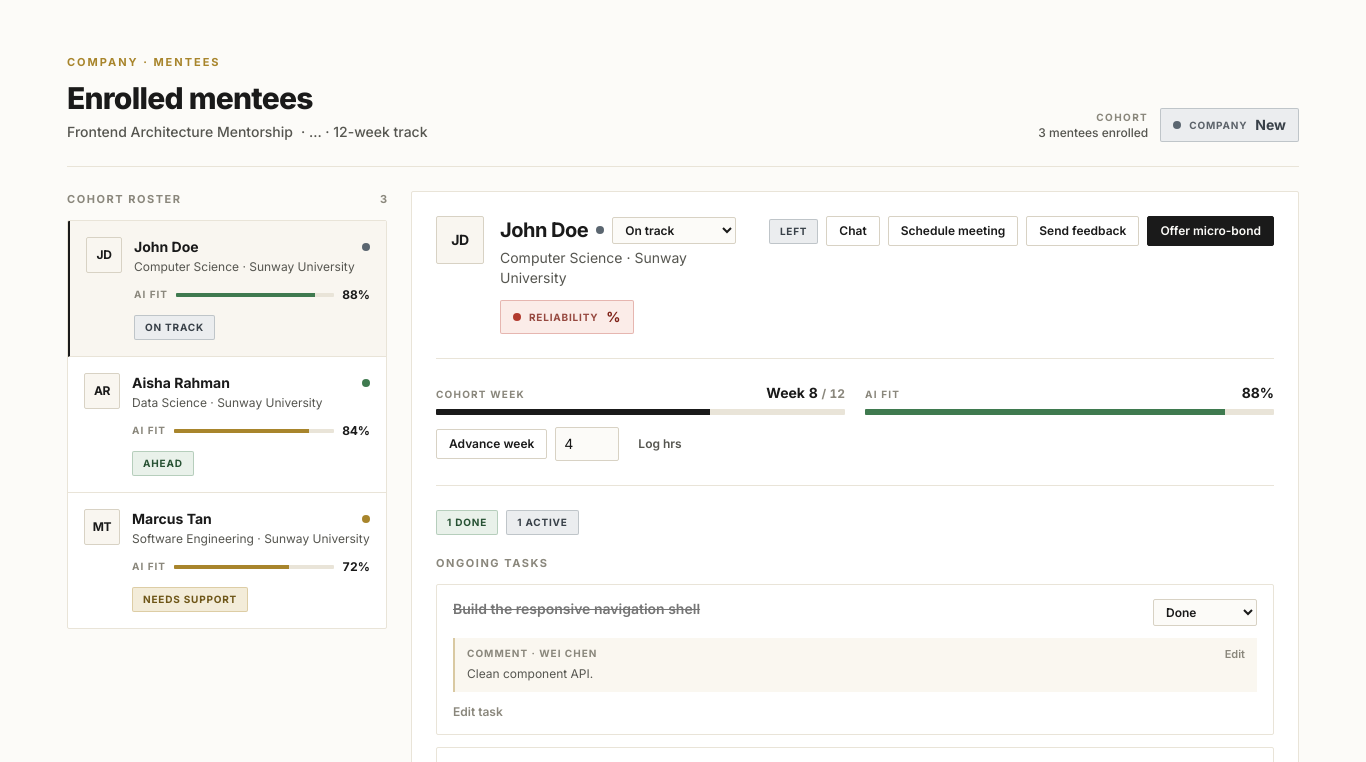
Scenario: Mentees › opens a real feedback composer and confirms after sending
Click the button with aria-label "send feedback to John Doe" at (1083, 231), box [1026, 216, 1139, 246]
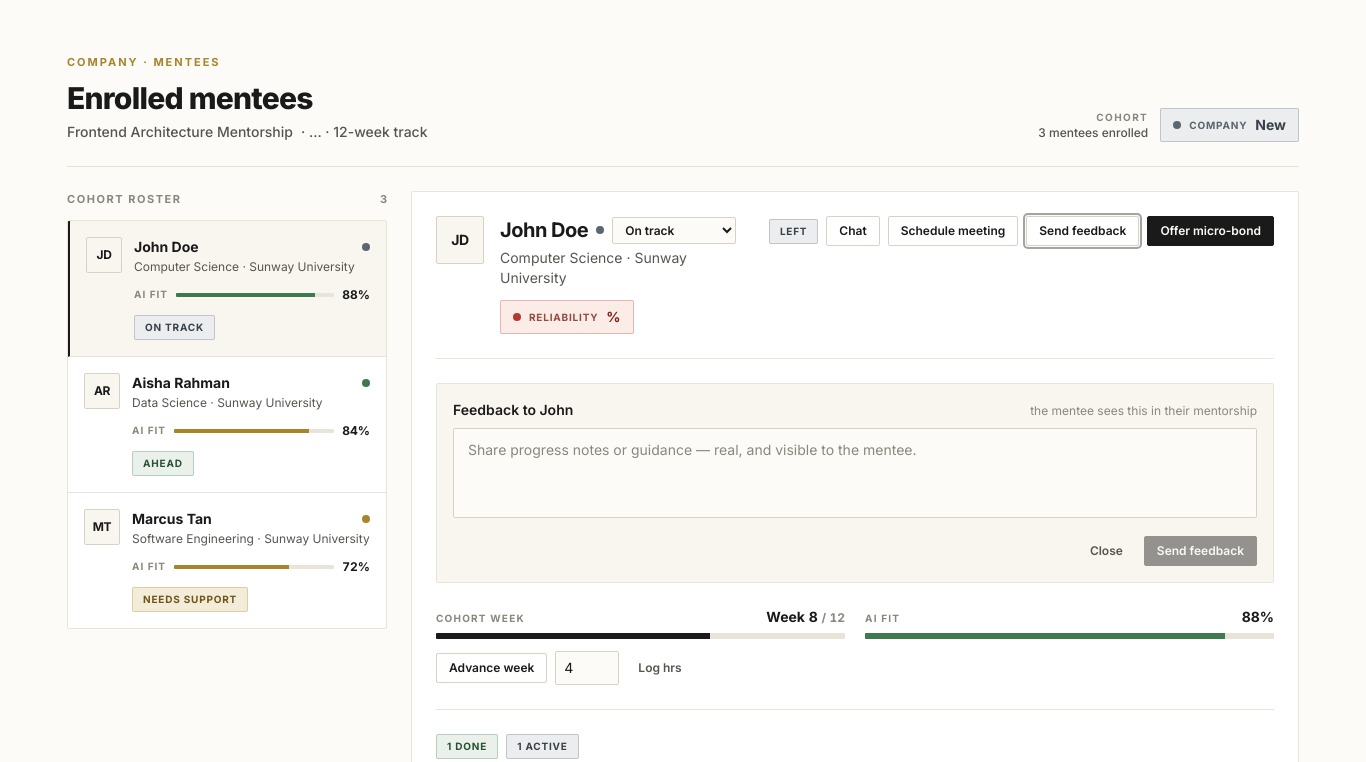
Type "Strong progress this week — keep it up." into the text box with placeholder "visible to the mentee" at (855, 473), box [453, 428, 1257, 518]
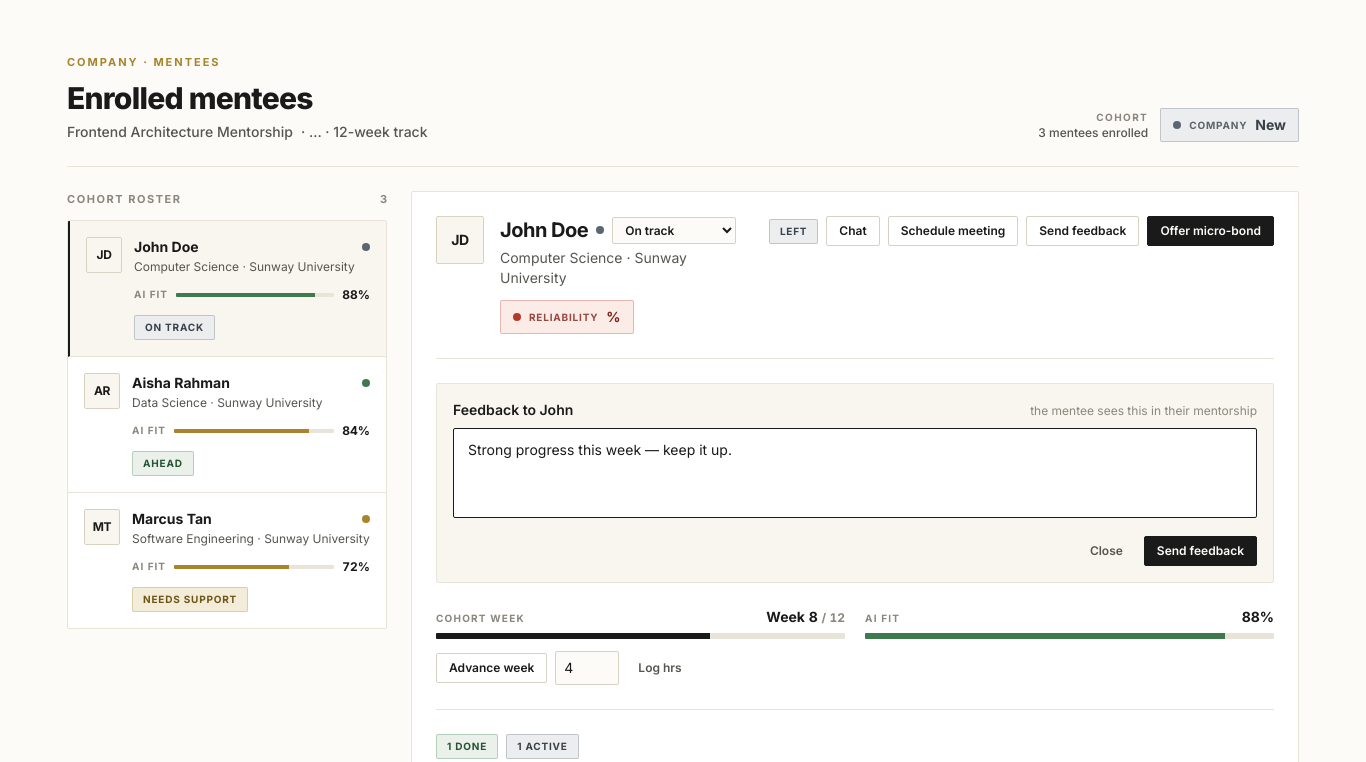
Click the button "Send feedback" below "the mentee sees this in their mentorship" at (1200, 551), box [1144, 536, 1257, 566]
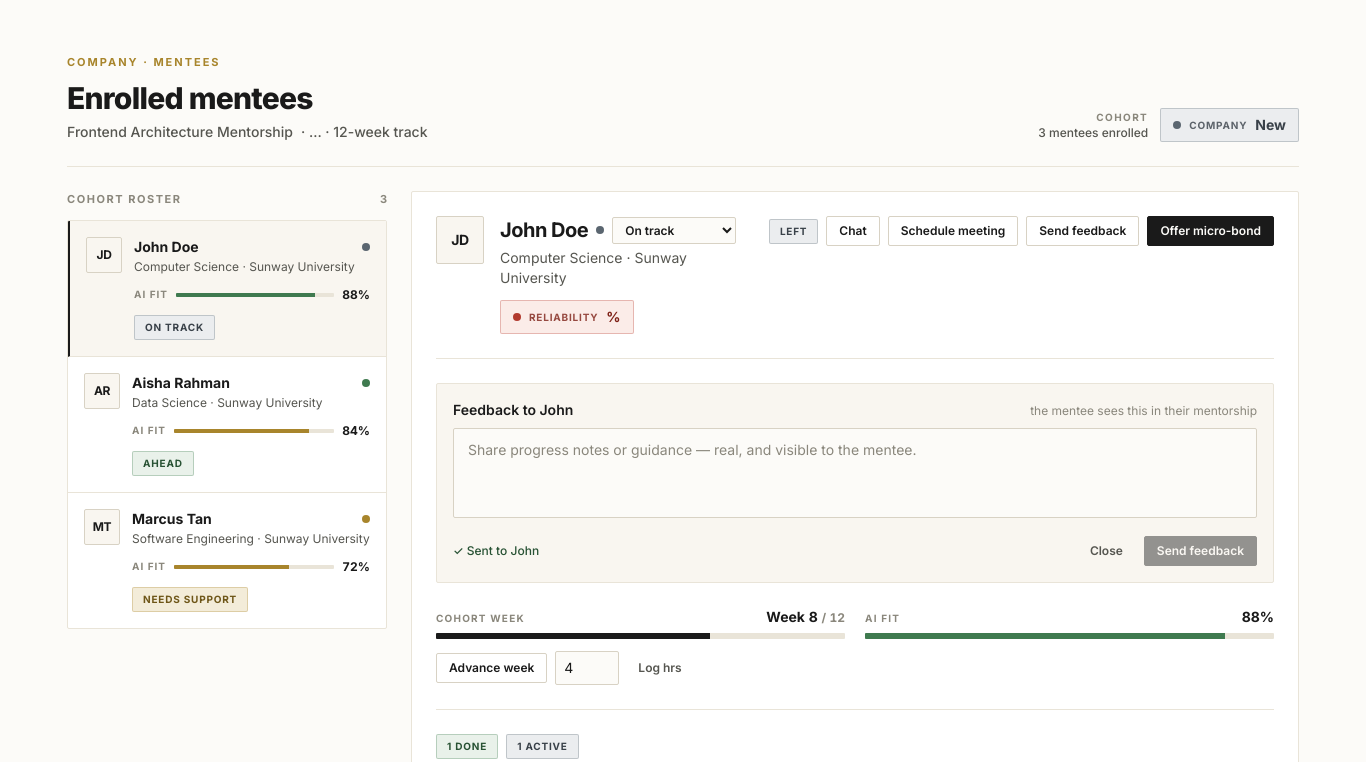
Expected: the text "✓ Sent to John" is shown, [453, 543, 539, 559]
